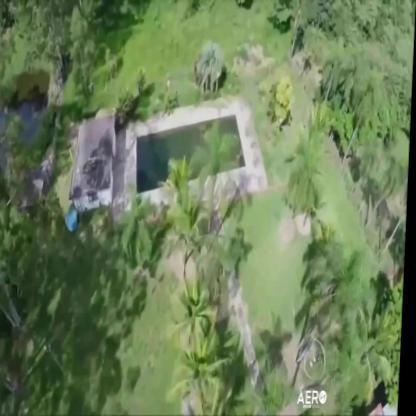agua: (155, 120, 233, 191)
